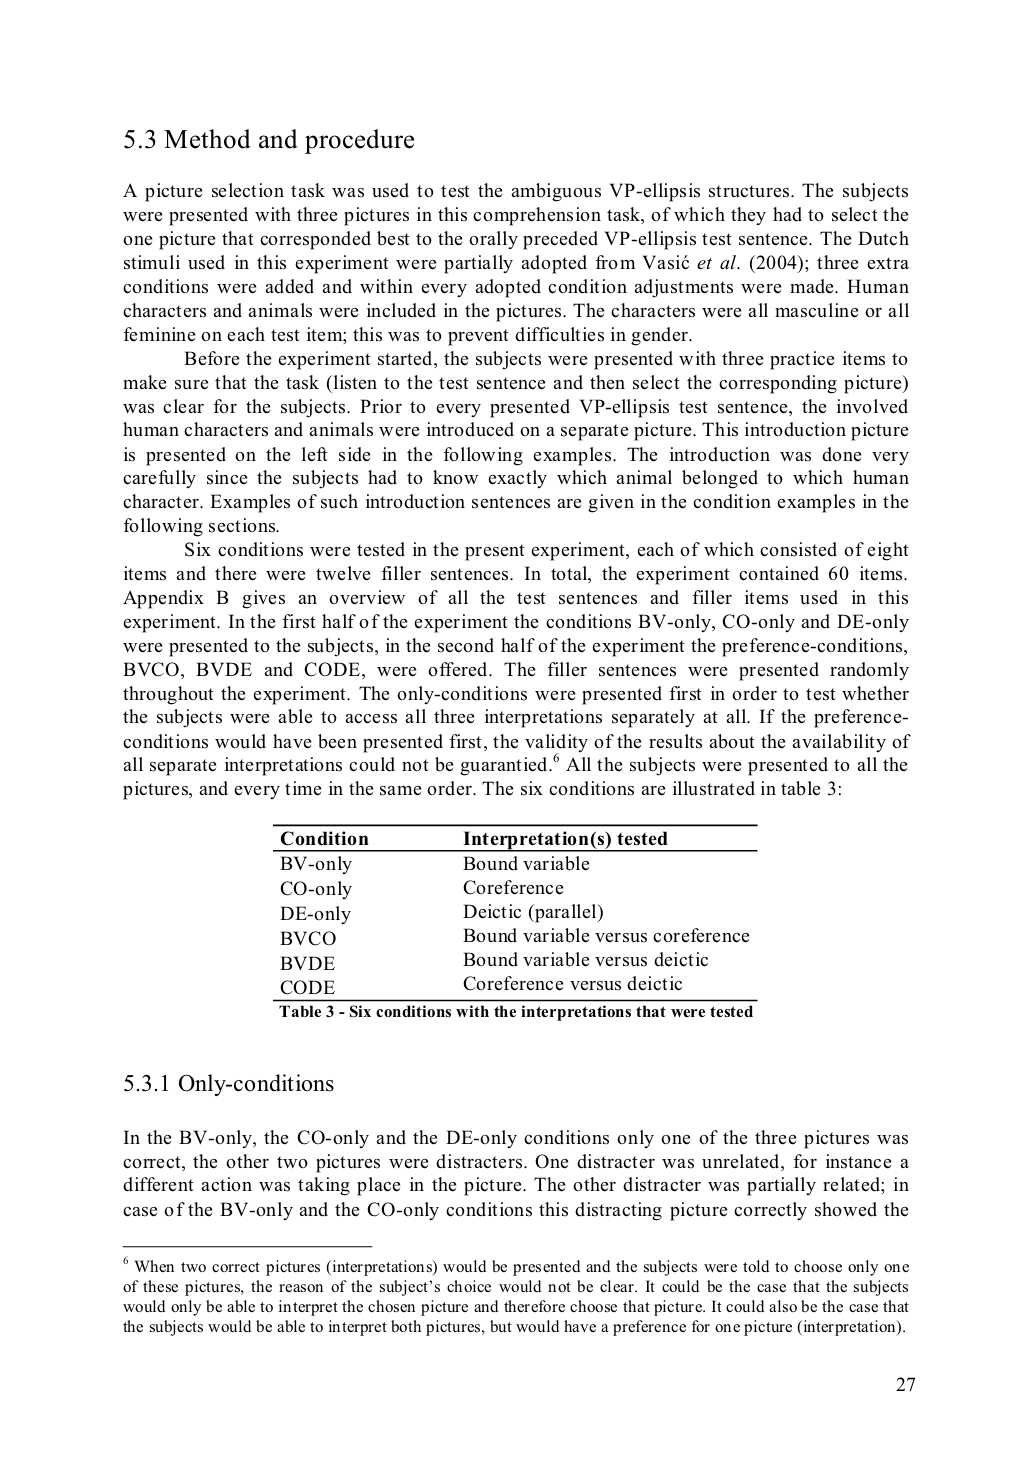Table: (273, 824, 757, 1001)
